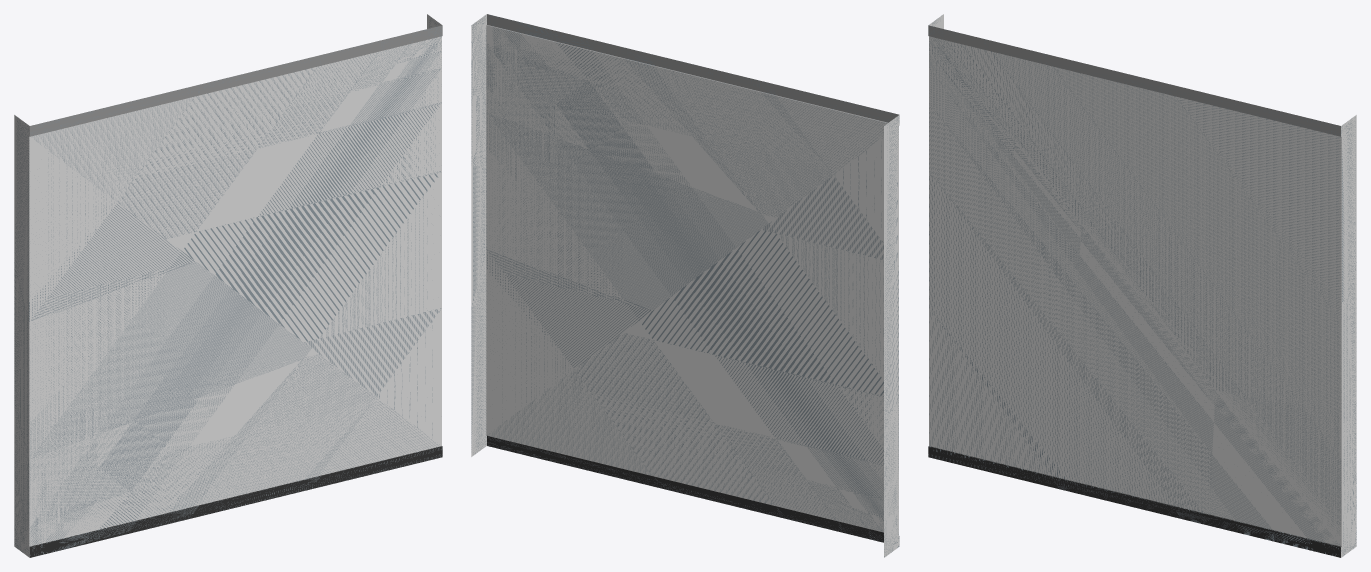
File: BlockWall_os_plinth_4x4x025.dae
The picture shows the model from 3 angles, left to right: view 1: azimuth 30°, elevation 25°; view 2: azimuth 150°, elevation 25°; view 3: azimuth 330°, elevation 25°; orthographic projection.
Parts seen in each view (by area): view 1: group_0 (×3); view 2: group_0 (×3); view 3: group_0 (×3).
Boxes of the visible parts, x1,y1,x2,y2 form: group_0 (×3): (14, 14, 442, 557); group_0 (×3): (471, 14, 899, 557); group_0 (×3): (928, 14, 1356, 557).
Bounding box in the file's own units: 157 × 10.24 × 157.
